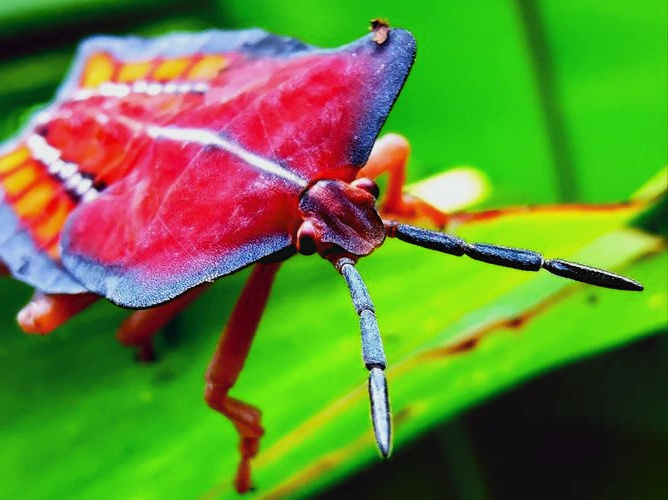Stink_Bug: (0, 45, 453, 381)
